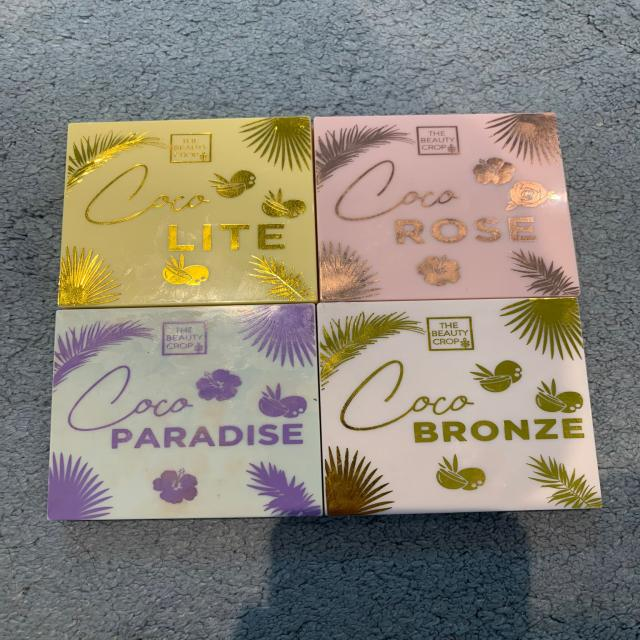eye shade: (63, 113, 589, 529)
